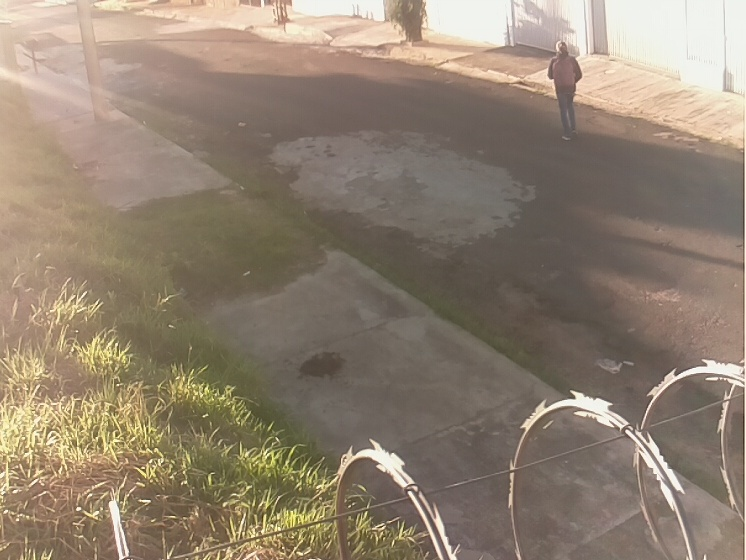person: (546, 40, 584, 143)
